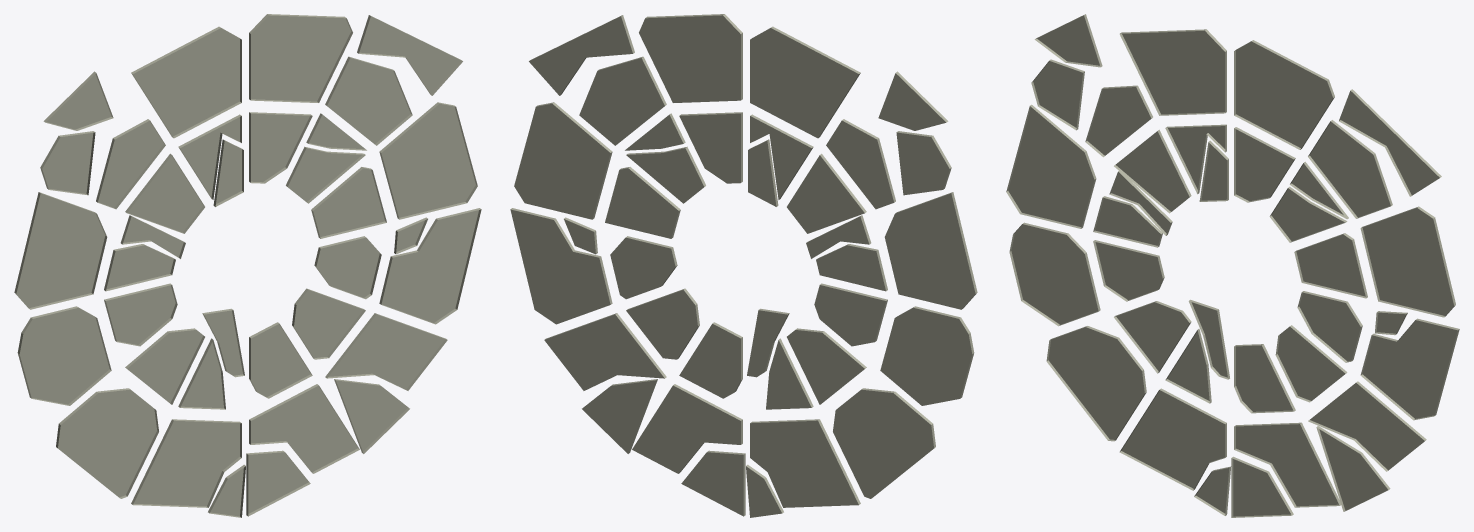
The model's file is Stone Tile Pile 01.FBX.
3 views of the same model, side by side, from view 1: azimuth 30°, elevation 25°; view 2: azimuth 150°, elevation 25°; view 3: azimuth 330°, elevation 25° (orthographic). The views are drawn at different scales.
Parts seen in each view (by area): view 1: Stone Tile Pile 01; view 2: Stone Tile Pile 01; view 3: Stone Tile Pile 01.
Part boxes in pixels (x1,y1,x2,y2): Stone Tile Pile 01: [14, 14, 481, 517]; Stone Tile Pile 01: [510, 14, 977, 517]; Stone Tile Pile 01: [1006, 14, 1459, 517].
Size of the model in its own units: 451 by 460 by 3.34.
